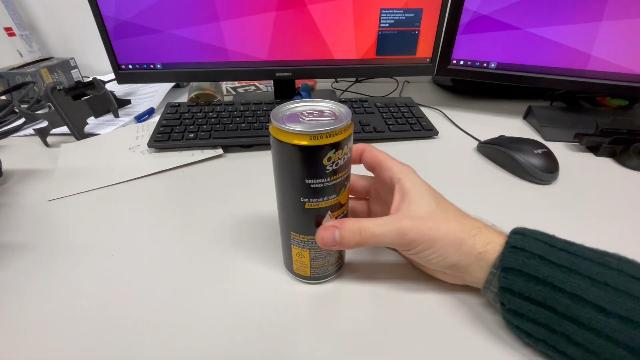OranSoda: (267, 94, 357, 286)
